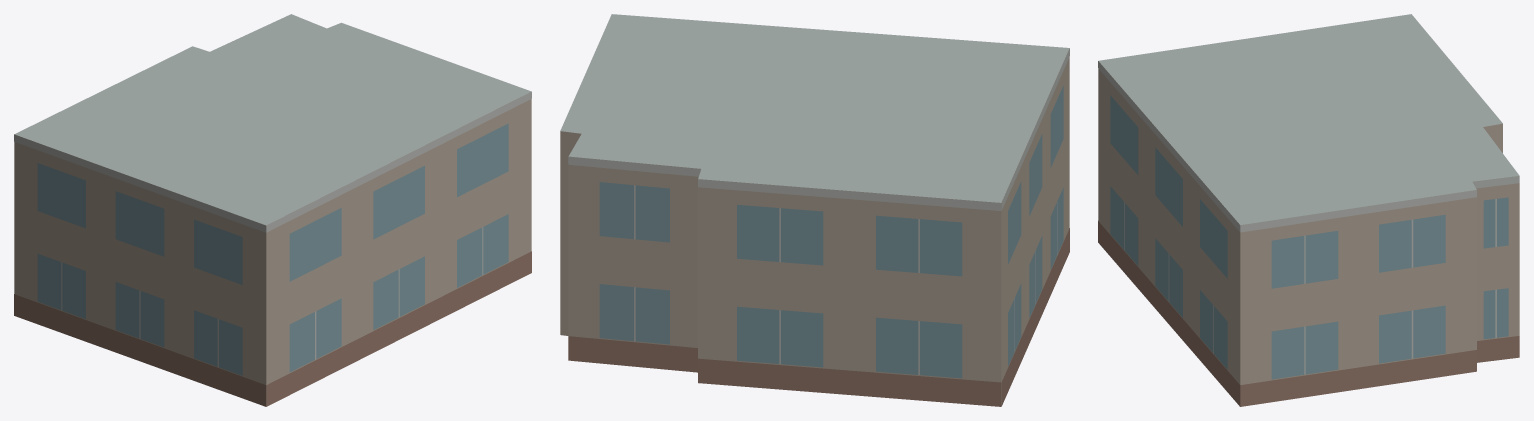
Rendered from survey-upis-32720192.glb.
3 renders of one model, left to right at view 1: azimuth 30°, elevation 25°; view 2: azimuth 150°, elevation 25°; view 3: azimuth 270°, elevation 25°, orthographic. The views are drawn at different scales.
Parts seen in each view (by area): view 1: survey-upis-32720192.tmp; view 2: survey-upis-32720192.tmp; view 3: survey-upis-32720192.tmp.
Part boxes in pixels (x1=…): survey-upis-32720192.tmp: x1=14, y1=14, x2=531, y2=406; survey-upis-32720192.tmp: x1=560, y1=14, x2=1069, y2=406; survey-upis-32720192.tmp: x1=1098, y1=14, x2=1519, y2=406.
Bounding box in the file's own units: 15.22 × 6.1 × 12.84.
